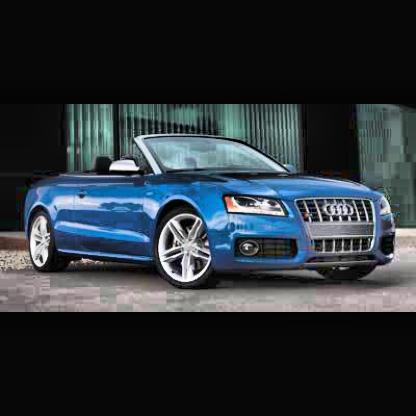Audi S5 Convertible 2012: (24, 136, 399, 293)
